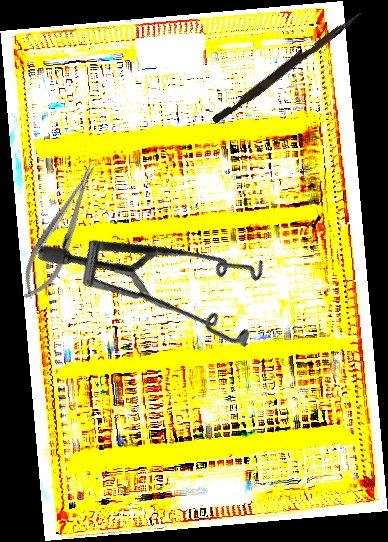Needle Holder: (12, 157, 109, 308)
Pusher: (211, 6, 363, 128)
Speculum: (34, 143, 298, 410)
